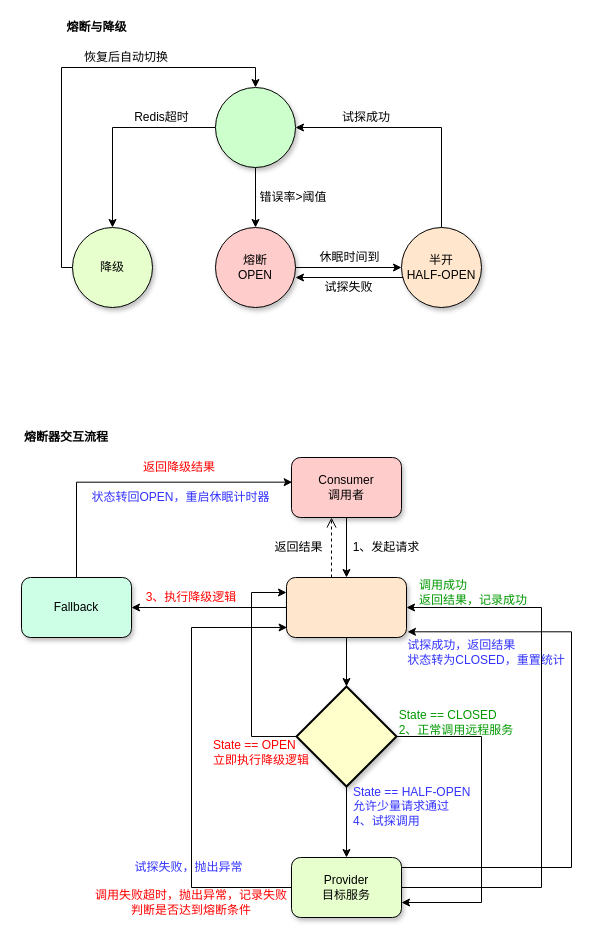
Image size: 597x942. Some labels were removed from this diagram. Here are the shapes that lost their labels. From the top down, the centre of each, then its label:
point (256, 128): 正常 CLOSED
point (347, 608): Hystrix Circuit Breaker
point (347, 737): 查询 当前状态
